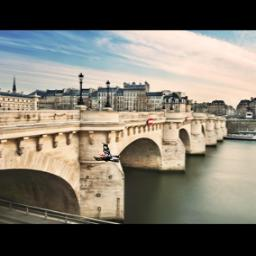Woodpecker: (93, 142, 120, 163)
